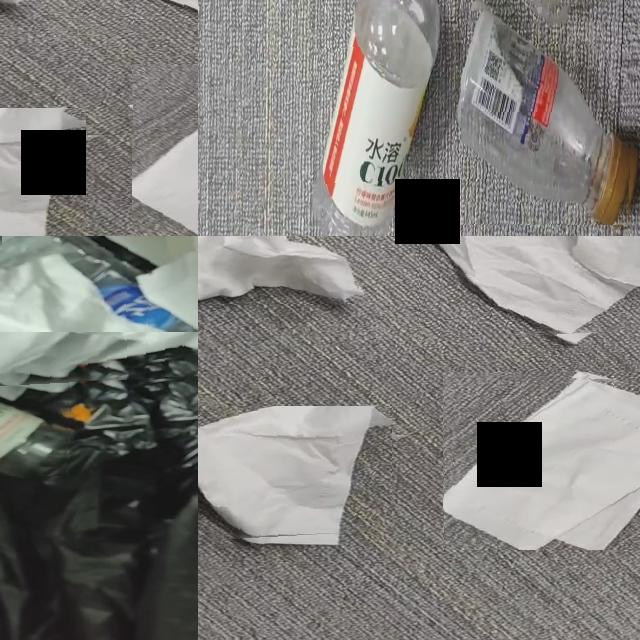bottle: (455, 10, 632, 225), (315, 0, 441, 236), (0, 236, 198, 332), (0, 403, 69, 476)
paper: (444, 377, 640, 550), (0, 238, 198, 389), (198, 406, 392, 539), (430, 236, 640, 336), (0, 108, 86, 236), (198, 236, 360, 301), (131, 87, 198, 129)
